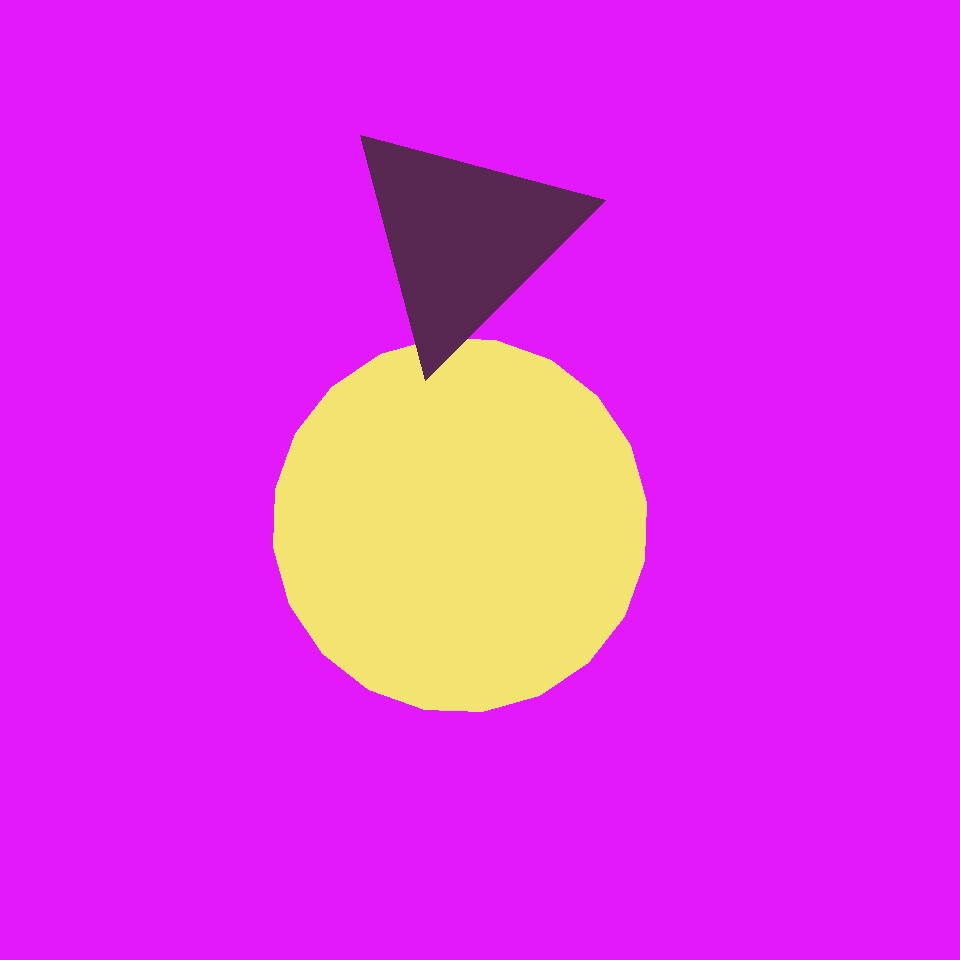circle: (414, 259, 692, 532), (342, 117, 586, 362), (151, 160, 372, 408), (213, 234, 413, 407), (708, 364, 898, 531)
triangle: (274, 338, 646, 712), (133, 560, 362, 788)
